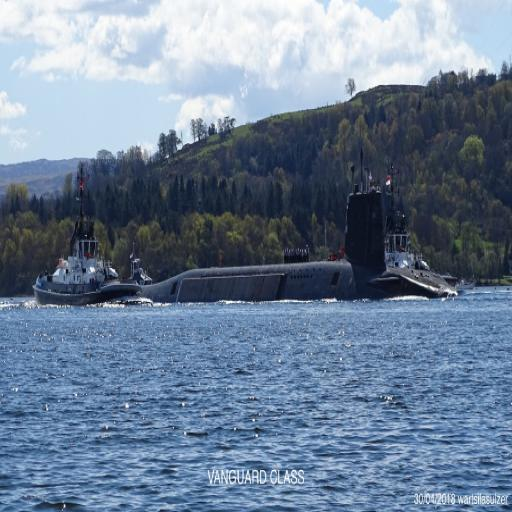submarine: (122, 193, 435, 303)
